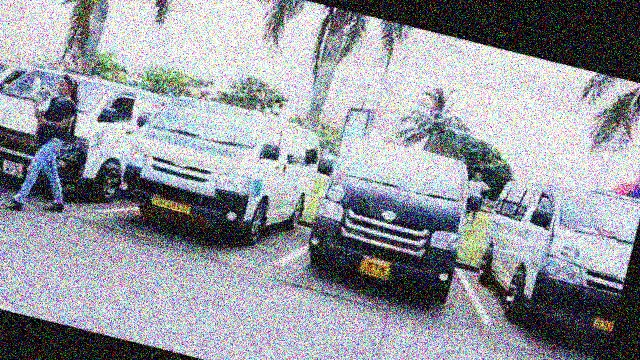van: (116, 88, 328, 263), (305, 128, 487, 309), (468, 171, 640, 350), (0, 60, 146, 208)
